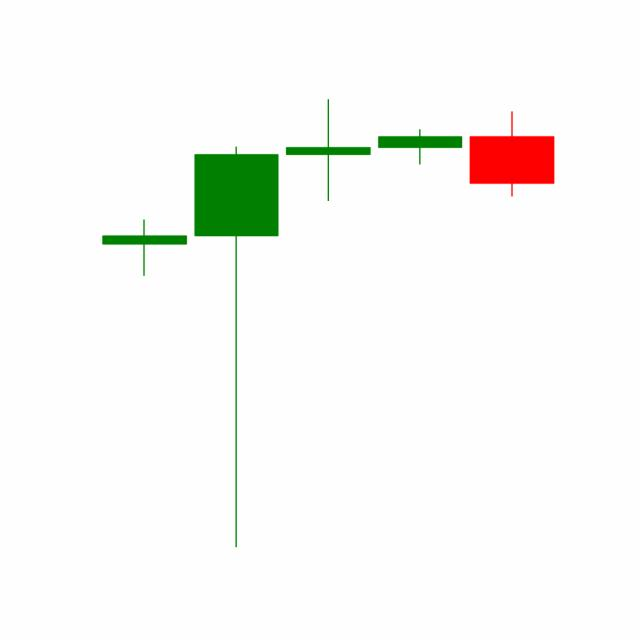Dragonfly Doji: (373, 127, 467, 165)
